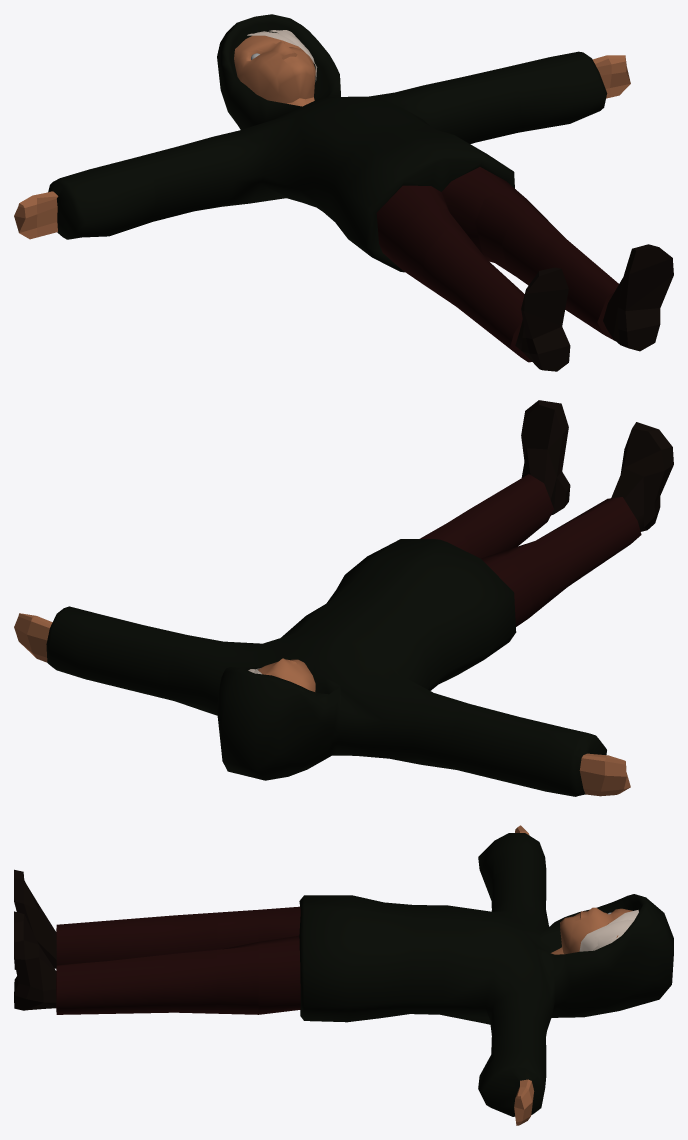
Rendered from LD_Human.fbx.
The picture shows the model from 3 angles, top to bottom: view 1: azimuth 30°, elevation 25°; view 2: azimuth 150°, elevation 25°; view 3: azimuth 270°, elevation 25°; orthographic projection. The views are drawn at different scales.
Visible parts, largest first — view 1: LD_Human; view 2: LD_Human; view 3: LD_Human.
Boxes of the visible parts, <box> form: LD_Human: <box>14,14,673,371</box>; LD_Human: <box>14,400,673,796</box>; LD_Human: <box>14,825,673,1125</box>.
Size of the model in its own units: 1.37 by 0.2917 by 1.4.
